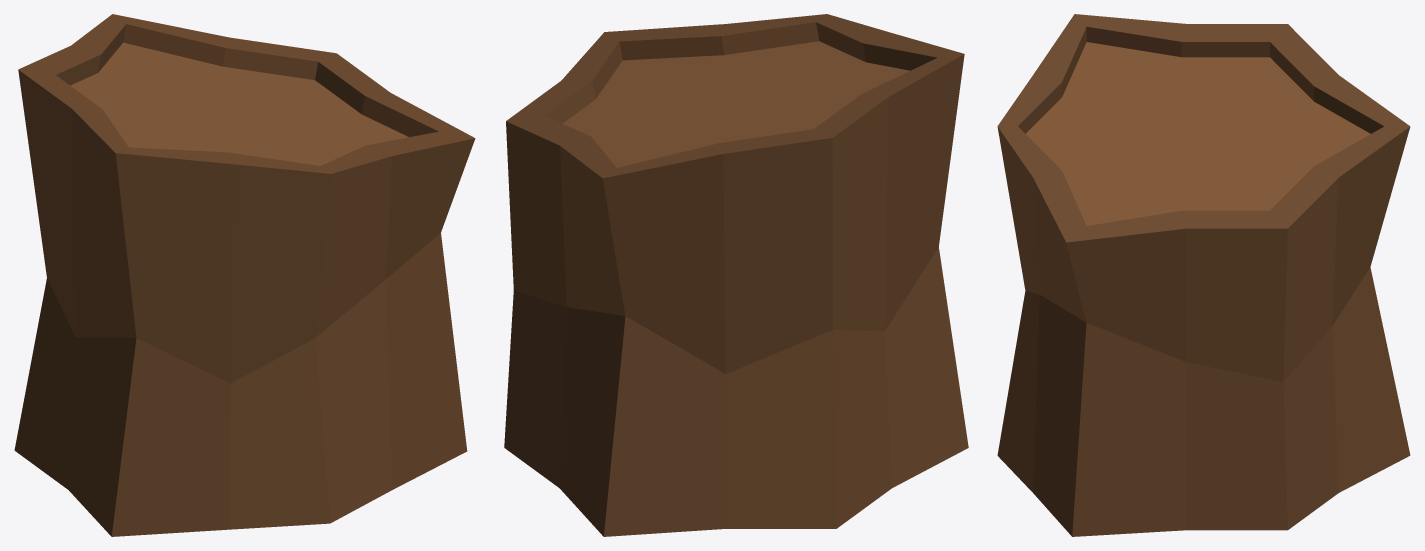
File: Tree_Trunk_2_Light_Brown.fbx
3 renders of one model, left to right at view 1: azimuth 30°, elevation 25°; view 2: azimuth 150°, elevation 25°; view 3: azimuth 270°, elevation 25°, orthographic. The views are drawn at different scales.
Visible parts, largest first — view 1: Tree_Trunk_2_Light_Brown; view 2: Tree_Trunk_2_Light_Brown; view 3: Tree_Trunk_2_Light_Brown.
Part boxes in pixels (<box>): Tree_Trunk_2_Light_Brown: <box>14,14,475,536</box>; Tree_Trunk_2_Light_Brown: <box>504,14,968,536</box>; Tree_Trunk_2_Light_Brown: <box>997,14,1410,536</box>.
Size of the model in its own units: 108 by 110 by 113.
